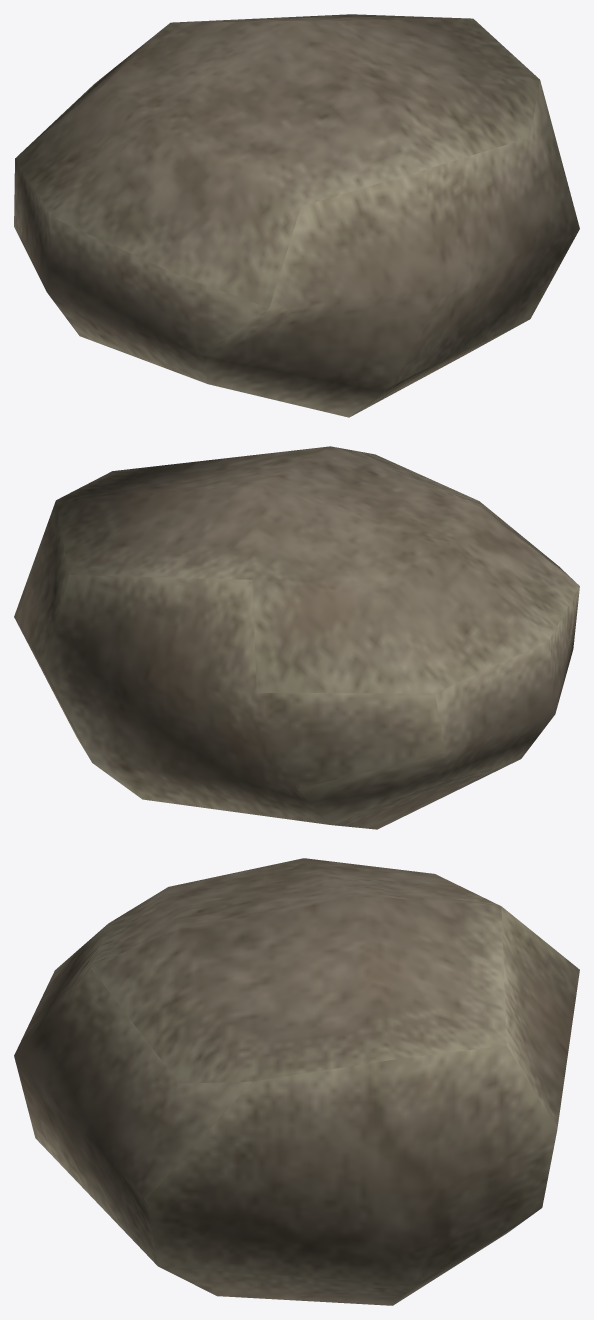
The model's file is Rock_04.fbx.
3 renders of one model, top to bottom at view 1: azimuth 30°, elevation 25°; view 2: azimuth 150°, elevation 25°; view 3: azimuth 270°, elevation 25°, orthographic. The views are drawn at different scales.
Visible parts, largest first — view 1: Rock_04; view 2: Rock_04; view 3: Rock_04.
Part boxes in pixels (box(x1,y1,x2,y2)): Rock_04: box(14, 14, 579, 417); Rock_04: box(14, 446, 579, 829); Rock_04: box(14, 858, 579, 1305).
Bounding box in the file's own units: 0.9066 × 0.5769 × 0.8306.
Materials: 1 (1 with a texture image).
